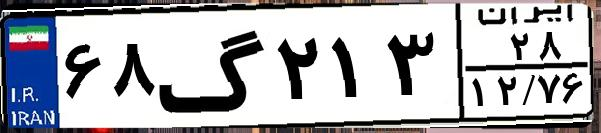1: (330, 28, 385, 110), (470, 70, 495, 125)
2: (270, 28, 330, 110), (508, 27, 537, 80), (495, 70, 520, 125)
3: (385, 28, 445, 110)
6: (57, 26, 110, 100), (560, 70, 590, 125)
7: (535, 70, 560, 125)
8: (110, 28, 156, 98), (537, 27, 568, 80)
گ: (156, 12, 270, 120)
